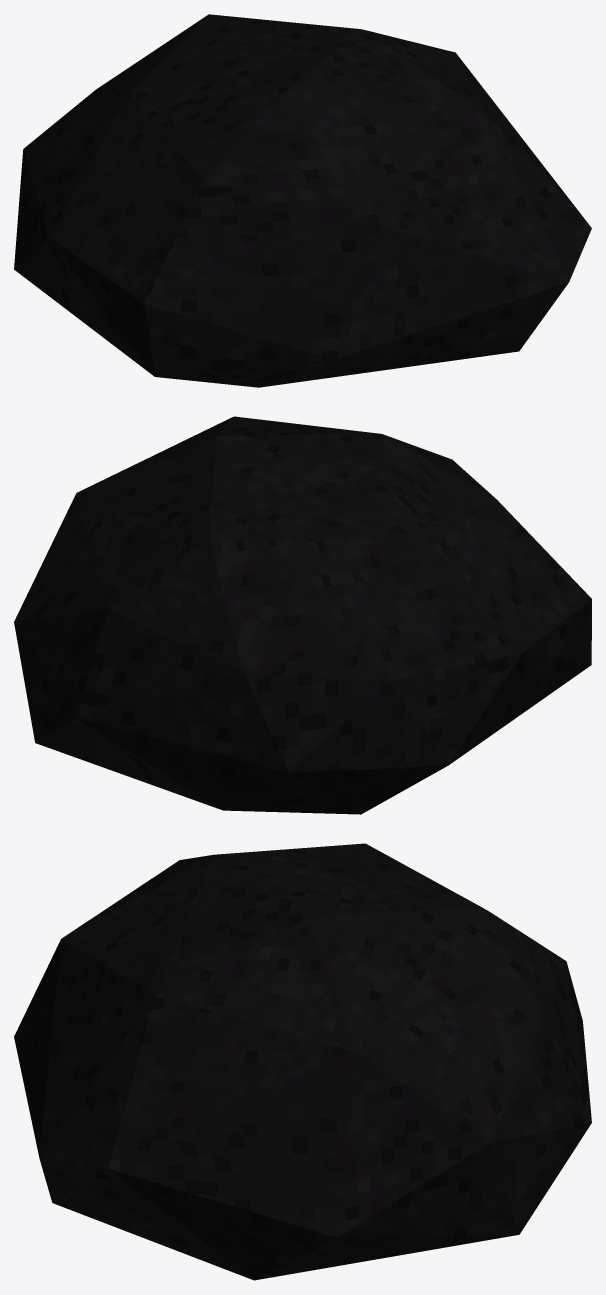
Rendered from Bush.obj.
The picture shows the model from 3 angles, top to bottom: view 1: azimuth 30°, elevation 25°; view 2: azimuth 150°, elevation 25°; view 3: azimuth 270°, elevation 25°; orthographic projection. The views are drawn at different scales.
Visible parts, largest first — view 1: Bush_meshId0_name; view 2: Bush_meshId0_name; view 3: Bush_meshId0_name.
Boxes of the visible parts, bbox=[...] form: Bush_meshId0_name: bbox=[14, 14, 591, 387]; Bush_meshId0_name: bbox=[14, 416, 591, 814]; Bush_meshId0_name: bbox=[14, 843, 591, 1280].
Bounding box in the file's own units: 289 × 160 × 274.
Materials: 1 (1 with a texture image).
